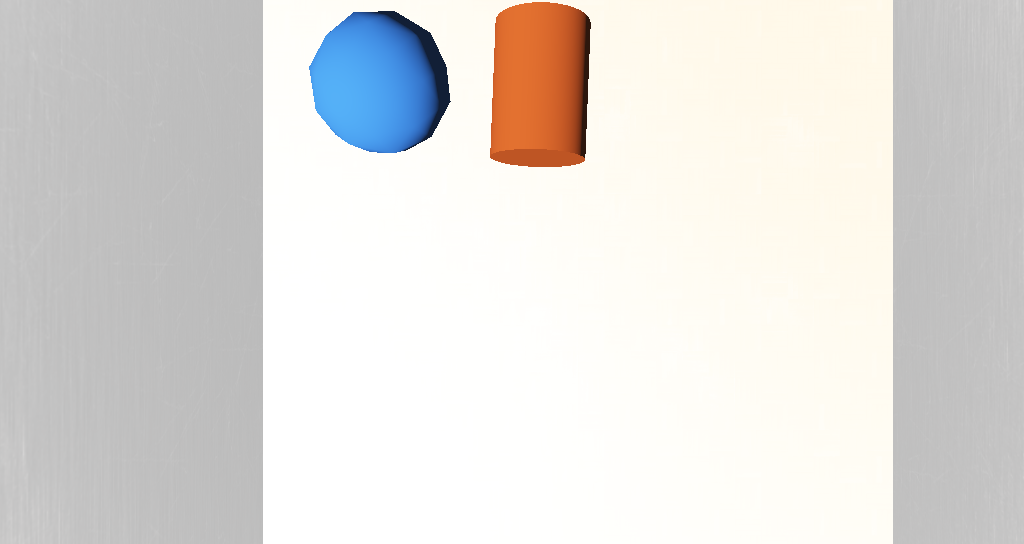cone: (458, 184, 512, 236)
cylinder: (391, 356, 485, 465)
sphere: (387, 188, 448, 231)
